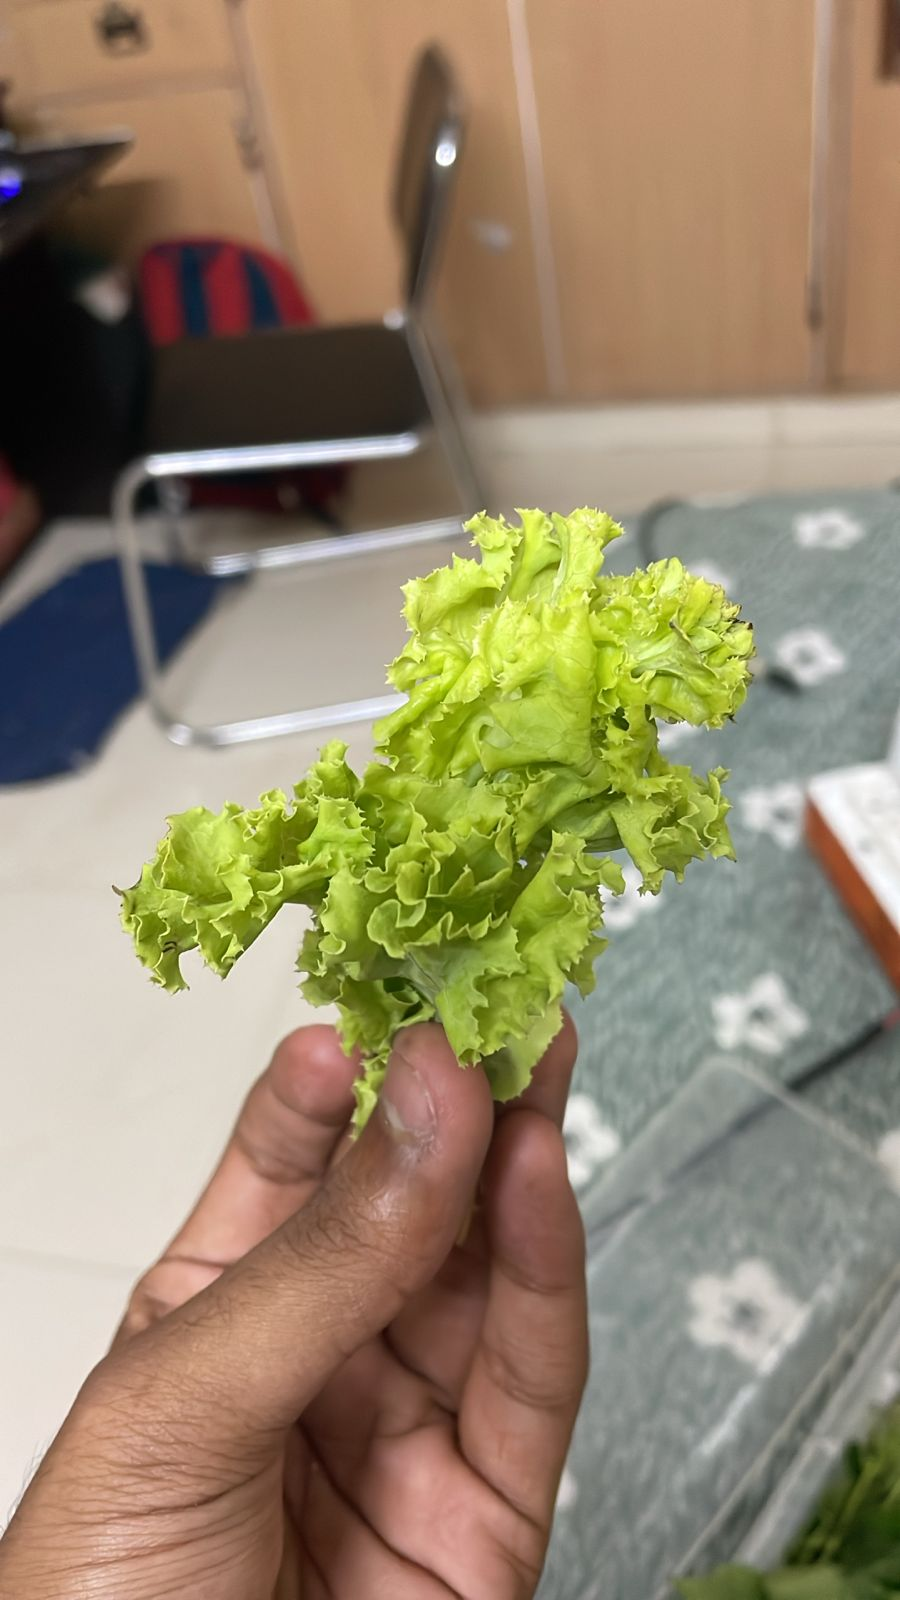wet: (123, 492, 647, 1035)
